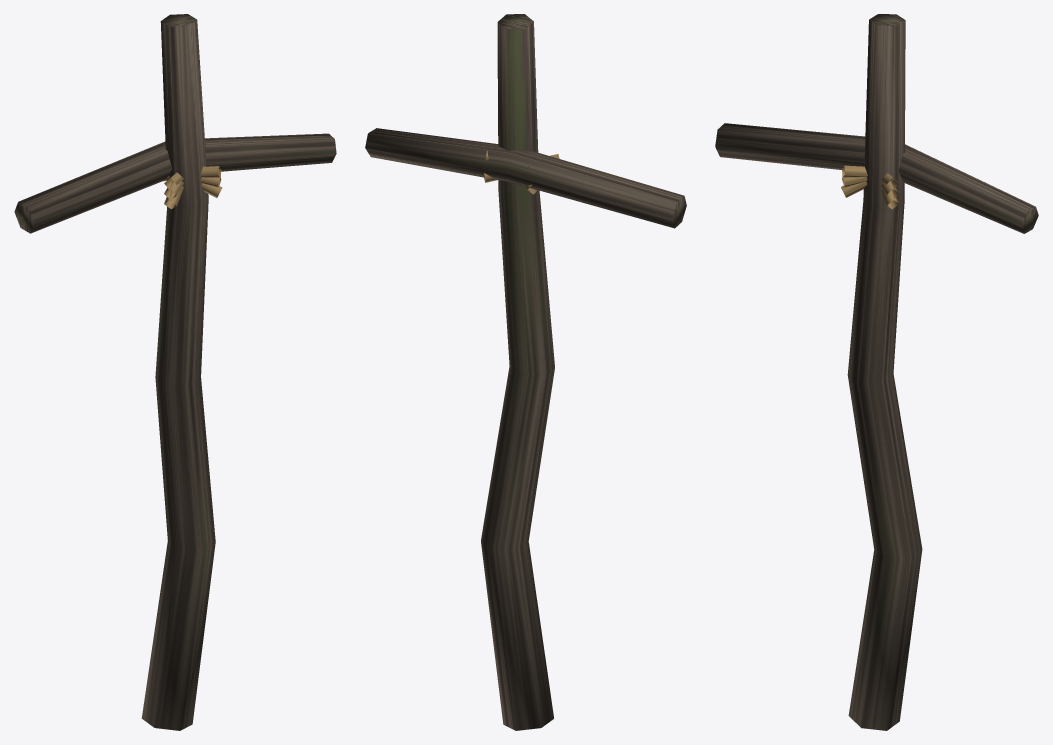
Rendered from Cross_Wood_2.gltf.
The picture shows the model from 3 angles, left to right: view 1: azimuth 30°, elevation 25°; view 2: azimuth 150°, elevation 25°; view 3: azimuth 330°, elevation 25°; orthographic projection.
Visible parts, largest first — view 1: Cross_Wood_2; view 2: Cross_Wood_2; view 3: Cross_Wood_2.
Boxes of the visible parts, x1,y1,x2,y2 form: Cross_Wood_2: (14,14,336,730); Cross_Wood_2: (365,14,686,730); Cross_Wood_2: (715,14,1038,730).
Bounding box in the file's own units: 0.6281 × 1.36 × 0.1159.
2 materials, 2 textured.
